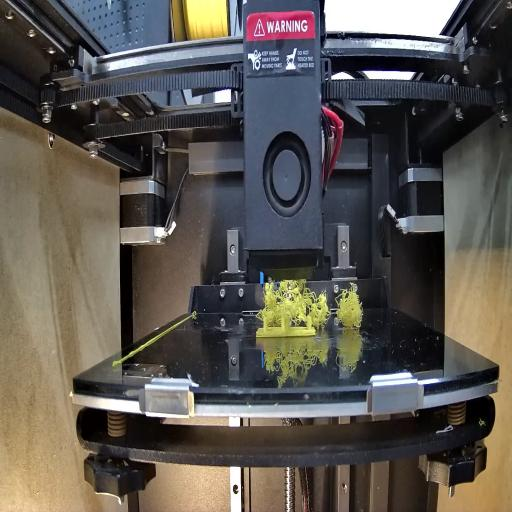spaghetti: (262, 275, 328, 327), (334, 282, 366, 330)
